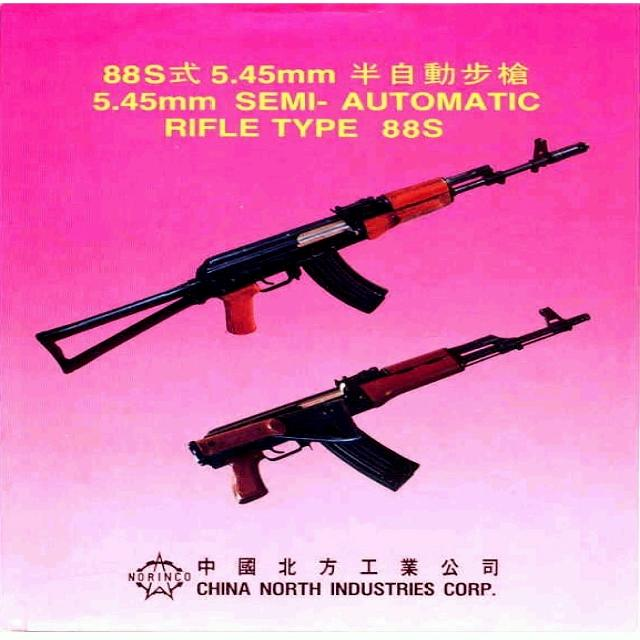ak: (28, 137, 607, 373), (180, 309, 594, 510)
